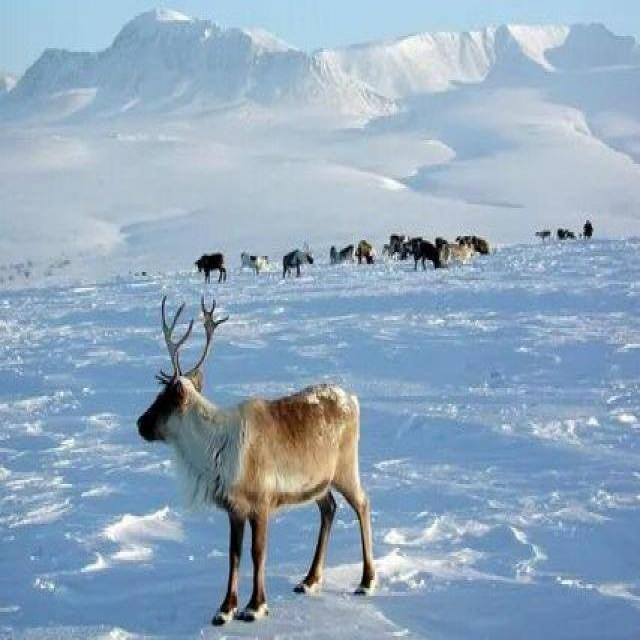deer: (128, 302, 414, 613)
